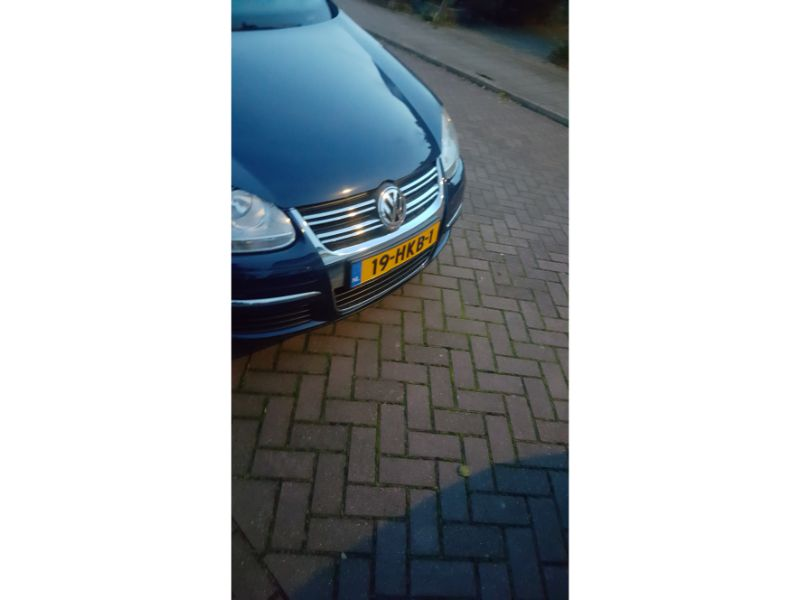kenteken: (353, 224, 442, 287)
